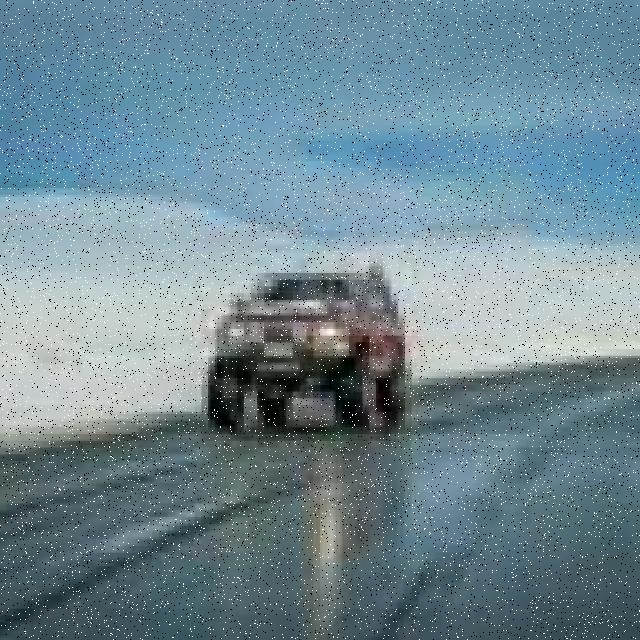ice-road: (0, 354, 640, 640)
